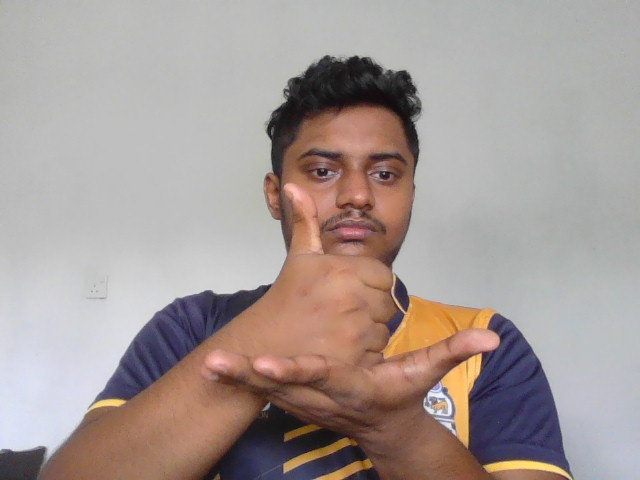Help: (198, 181, 502, 437)
